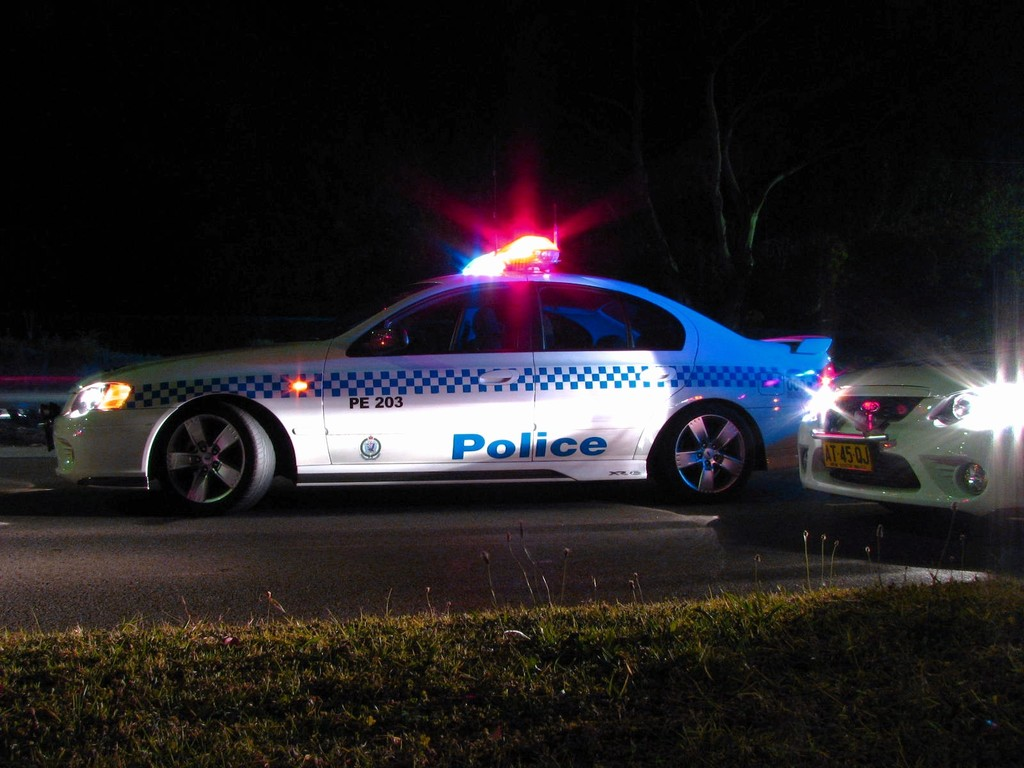Car: (46, 236, 836, 512), (800, 302, 1023, 513)
